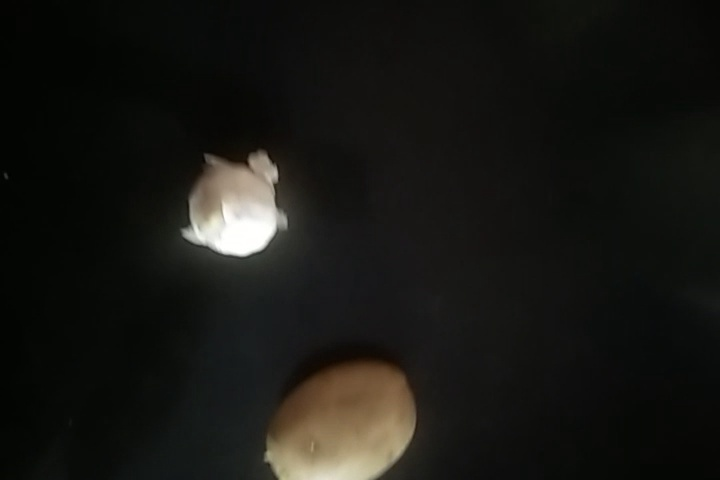garlic: (182, 149, 286, 252)
potato: (257, 355, 420, 480)
